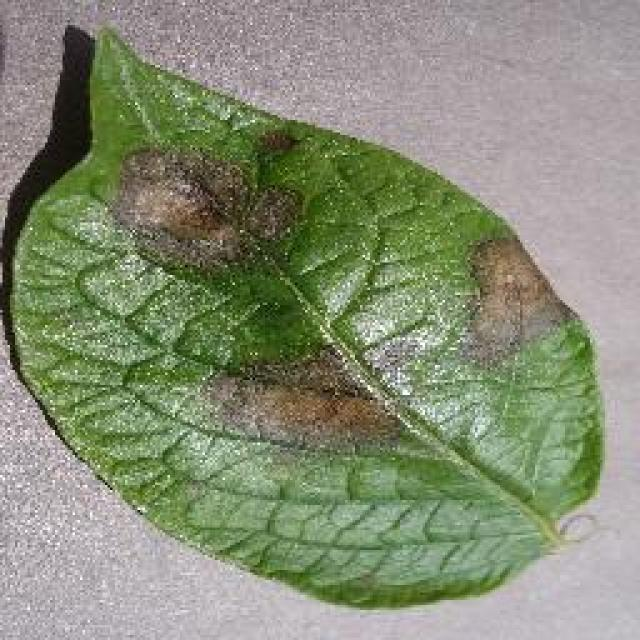Potato___Late_blight: (2, 5, 620, 637)
